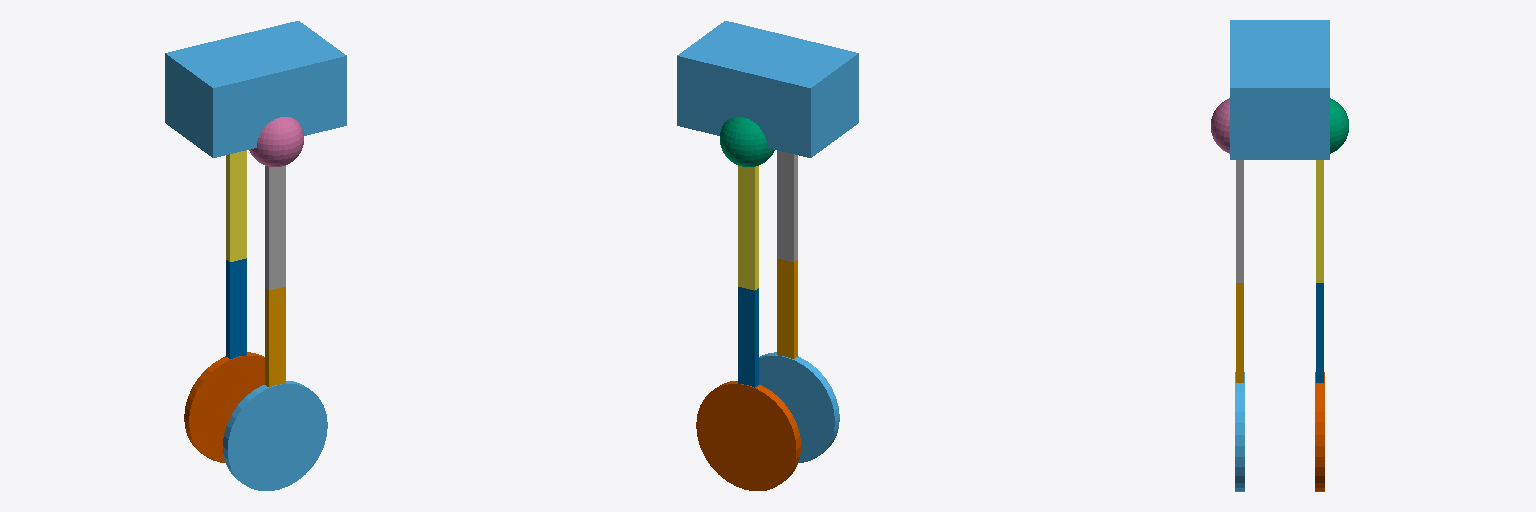
The robot description file, URDF, robot "two_wheel_walking_robot":
<?xml version="1.0"?>
<robot name="two_wheel_walking_robot">
    <link name="base_link"/>

    <link name="chassis">
        <inertial>
            <origin xyz="0 0 0"/>
            <mass value="3.6"/>
            <inertia ixx="0.03075" iyy="0.06" izz="0.06675"
                     ixy="0.0"     ixz="0.0"  iyz="0.0"/>
        </inertial>
        <visual>
            <geometry>
                <box size="0.4 0.25 0.2"/>
            </geometry>
        </visual>
    </link>

    <joint name="base_link_to_chassis" type="fixed">
        <parent link="base_link"/>
        <child link="chassis"/>
    </joint>

    <link name="hip_roll_l">
        <collision>
            <geometry>
                <sphere radius="0.075"/>
            </geometry>
        </collision>
        <visual>
            <geometry>
                <sphere radius="0.075"/>
            </geometry>
        </visual>
    </link>

    <joint name="chassis_to_hip_roll_l" type="revolute">
        <origin rpy="0 0 0" xyz="0 0.1 -0.1"/>
        <axis xyz="1 0 0"/>
        <limit effort="30.0" lower="-0.2" upper="0.8" velocity="8.38"/>
        <parent link="chassis"/>
        <child link="hip_roll_l"/>
    </joint>

    <link name="hip_pitch_l">
        <collision>
            <origin xyz="0 0 -0.2125"/>
            <geometry>
                <box size="0.05 0.02 0.425"/>
            </geometry>
        </collision>
        <visual>
            <origin xyz="0 0 -0.2125"/>
            <geometry>
                <box size="0.05 0.02 0.425"/>
            </geometry>
        </visual>
    </link>

    <joint name="hip_roll_to_hip_pitch_l" type="revolute">
        <origin rpy="0 0 0" xyz="0 0 0"/>
        <axis xyz="0 1 0"/>
        <limit effort="30.0" lower="0" upper="1.3" velocity="8.38"/>
        <parent link="hip_roll_l"/>
        <child link="hip_pitch_l"/>
    </joint>

    <link name="knee_l">
        <collision>
            <origin xyz="0 0 -0.2125"/>
            <geometry>
                <box size="0.05 0.02 0.425"/>
            </geometry>
        </collision>
        <visual>
            <origin xyz="0 0 -0.2125"/>
            <geometry>
                <box size="0.05 0.02 0.425"/>
            </geometry>
        </visual>
    </link>

    <joint name="hip_pitch_to_knee_l" type="revolute">
        <origin rpy="0 0 0" xyz="0 0 -0.425"/>
        <axis xyz="0 1 0"/>
        <limit effort="30.0" lower="-2.6" upper="0" velocity="8.38"/>
        <parent link="hip_pitch_l"/>
        <child link="knee_l"/>
    </joint>

    <link name="wheel_l">
        <inertial>
            <mass value="0.8"/>
            <inertia ixx="0.00454" iyy="0.09" izz="0.00454"
                     ixy="0.0"     ixz="0.0"  iyz="0.0"/>
        </inertial>
        <collision>
            <origin rpy="1.57 0 0"/>
            <geometry>
                <cylinder length="0.025" radius="0.15"/>
            </geometry>
        </collision>
        <visual>
            <origin rpy="1.57 0 0"/>
            <geometry>
                <cylinder length="0.025" radius="0.15"/>
            </geometry>
        </visual>
    </link>

    <joint name="knee_to_wheel_l" type="continuous">
        <origin rpy="0 0 0" xyz="0 0 -0.425"/>
        <axis xyz="0 1 0"/>
        <limit effort="4.75" velocity="46.67"/>
        <parent link="knee_l"/>
        <child link="wheel_l"/>
    </joint>

    <link name="hip_roll_r">
        <collision>
            <geometry>
                <sphere radius="0.075"/>
            </geometry>
        </collision>
        <visual>
            <geometry>
                <sphere radius="0.075"/>
            </geometry>
        </visual>
    </link>

    <joint name="chassis_to_hip_roll_r" type="revolute">
        <origin rpy="0 0 0" xyz="0 -0.1 -0.1"/>
        <axis xyz="1 0 0"/>
        <limit effort="30.0" lower="-0.8" upper="0.2" velocity="8.38"/>
        <parent link="chassis"/>
        <child link="hip_roll_r"/>
    </joint>

    <link name="hip_pitch_r">
        <collision>
            <origin xyz="0 0 -0.2125"/>
            <geometry>
                <box size="0.05 0.02 0.425"/>
            </geometry>
        </collision>
        <visual>
            <origin xyz="0 0 -0.2125"/>
            <geometry>
                <box size="0.05 0.02 0.425"/>
            </geometry>
        </visual>
    </link>

    <joint name="hip_roll_to_hip_pitch_r" type="revolute">
        <origin rpy="0 0 0" xyz="0 0 0"/>
        <axis xyz="0 1 0"/>
        <limit effort="30.0" lower="0" upper="1.3" velocity="8.38"/>
        <parent link="hip_roll_r"/>
        <child link="hip_pitch_r"/>
    </joint>

    <link name="knee_r">
        <collision>
            <origin xyz="0 0 -0.2125"/>
            <geometry>
                <box size="0.05 0.02 0.425"/>
            </geometry>
        </collision>
        <visual>
            <origin xyz="0 0 -0.2125"/>
            <geometry>
                <box size="0.05 0.02 0.425"/>
            </geometry>
        </visual>
    </link>

    <joint name="hip_pitch_to_knee_r" type="revolute">
        <origin rpy="0 0 0" xyz="0 0 -0.425"/>
        <axis xyz="0 1 0"/>
        <limit effort="30.0" lower="-2.6" upper="0" velocity="8.38"/>
        <parent link="hip_pitch_r"/>
        <child link="knee_r"/>
    </joint>

    <link name="wheel_r">
        <inertial>
            <mass value="0.8"/>
            <inertia ixx="0.00454" iyy="0.09" izz="0.00454"
                     ixy="0.0"     ixz="0.0"  iyz="0.0"/>
        </inertial>
        <collision>
            <origin rpy="1.57 0 0"/>
            <geometry>
                <cylinder length="0.025" radius="0.15"/>
            </geometry>
        </collision>
        <visual>
            <origin rpy="1.57 0 0"/>
            <geometry>
                <cylinder length="0.025" radius="0.15"/>
            </geometry>
        </visual>
    </link>

    <joint name="knee_to_wheel_r" type="continuous">
        <origin rpy="0 0 0" xyz="0 0 -0.425"/>
        <axis xyz="0 1 0"/>
        <limit effort="4.75" velocity="46.67"/>
        <parent link="knee_r"/>
        <child link="wheel_r"/>
    </joint>
</robot>

--- What the picture shows (computed from the rendered views, not written in the file) ---
3 views of the same robot in one strip: view 1: azimuth 30°, elevation 25°; view 2: azimuth 150°, elevation 25°; view 3: azimuth 270°, elevation 25° (orthographic).
Robot: two_wheel_walking_robot — 10 links, 9 joints (6 revolute, 2 continuous, 1 fixed); root link base_link; default pose: all joints at 0.
Links seen in each view (by area): view 1: chassis, wheel_r, wheel_l, hip_pitch_r, hip_pitch_l, knee_l, knee_r, hip_roll_r; view 2: chassis, wheel_l, wheel_r, hip_pitch_l, hip_pitch_r, knee_r, knee_l, hip_roll_l; view 3: chassis, wheel_l, wheel_r, hip_pitch_l, hip_pitch_r, knee_l, knee_r, hip_roll_l, hip_roll_r.
Link boxes in pixels (x1,y1,x2,y2): chassis: (165, 21, 346, 157); wheel_r: (223, 381, 327, 490); wheel_l: (184, 352, 264, 462); hip_pitch_r: (265, 166, 285, 290); hip_pitch_l: (226, 150, 246, 261); knee_l: (226, 258, 246, 358); knee_r: (265, 287, 285, 387); hip_roll_r: (249, 117, 303, 166); chassis: (677, 21, 858, 157); wheel_l: (696, 381, 800, 490); wheel_r: (759, 352, 839, 462); hip_pitch_l: (738, 166, 758, 290); hip_pitch_r: (777, 150, 797, 261); knee_r: (777, 258, 797, 358); knee_l: (738, 287, 758, 387); hip_roll_l: (720, 117, 774, 166); chassis: (1230, 20, 1329, 159); wheel_l: (1315, 372, 1324, 491); wheel_r: (1235, 372, 1244, 491); hip_pitch_l: (1316, 160, 1323, 282); hip_pitch_r: (1236, 160, 1243, 282); knee_l: (1316, 283, 1323, 382); knee_r: (1236, 283, 1243, 382); hip_roll_l: (1330, 98, 1348, 153); hip_roll_r: (1211, 98, 1229, 153).
Size in the robot's own frame: 0.4 by 0.35 by 1.2 metres.
Geometry: primitives only (box / cylinder / sphere), no mesh files.